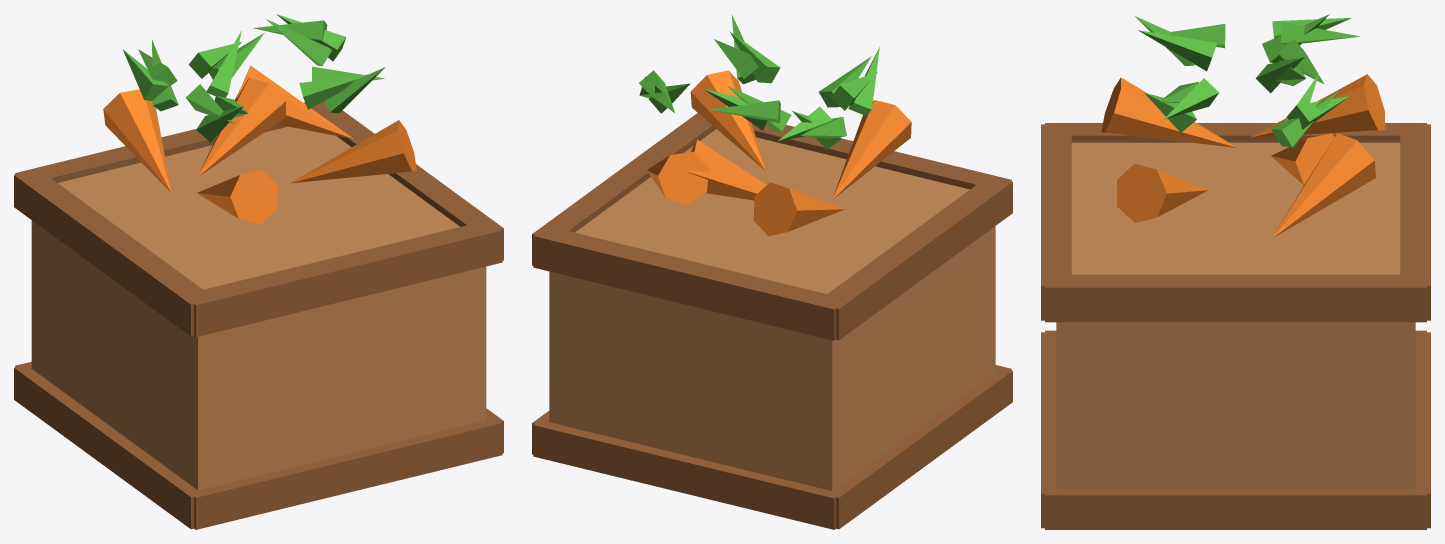
The model's file is good_crate_carrots.glb.
The picture shows the model from 3 angles, left to right: view 1: azimuth 30°, elevation 25°; view 2: azimuth 150°, elevation 25°; view 3: azimuth 270°, elevation 25°; orthographic projection. The views are drawn at different scales.
Visible parts, largest first — view 1: crate_carrots; view 2: crate_carrots; view 3: crate_carrots.
Boxes of the visible parts, box(x1,y1,x2,y2) form: crate_carrots: box(14, 14, 503, 529); crate_carrots: box(532, 14, 1012, 529); crate_carrots: box(1041, 14, 1430, 529).
Size of the model in its own units: 0.51 by 0.5779 by 0.51.
